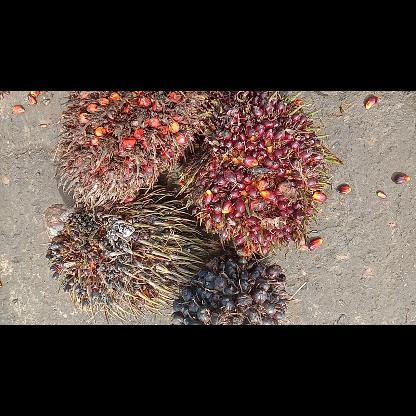TBS abnormal: (46, 185, 202, 313)
TBS masak: (181, 91, 331, 255)
TBS mentah: (172, 252, 286, 324)
Terlalu masak: (59, 92, 209, 204)
